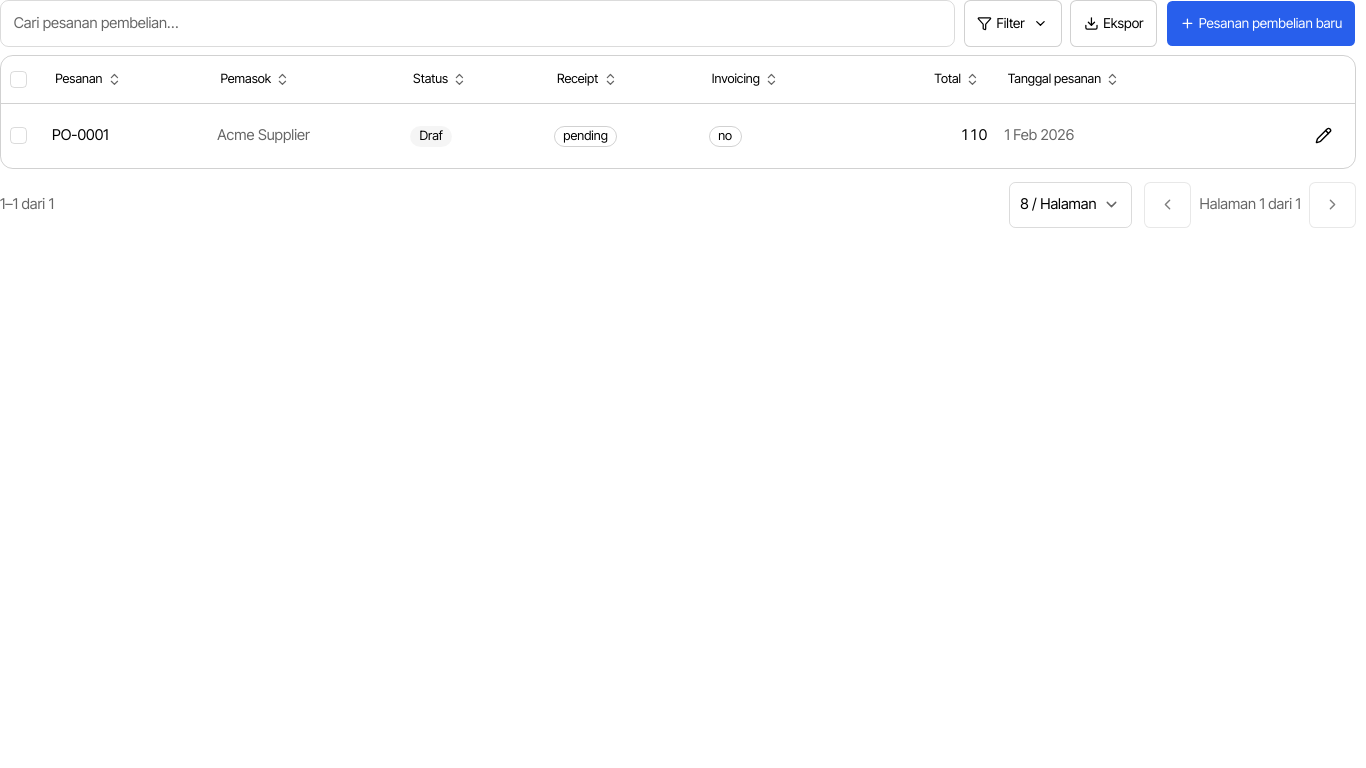
Test: PurchaseOrdersSection › opens the create dialog from the add button
Expected: the link "PO-0001" is shown, left=52, top=126, right=108, bottom=144
Click the button "Pesanan pembelian baru" at (1261, 23), box left=1166, top=0, right=1356, bottom=47
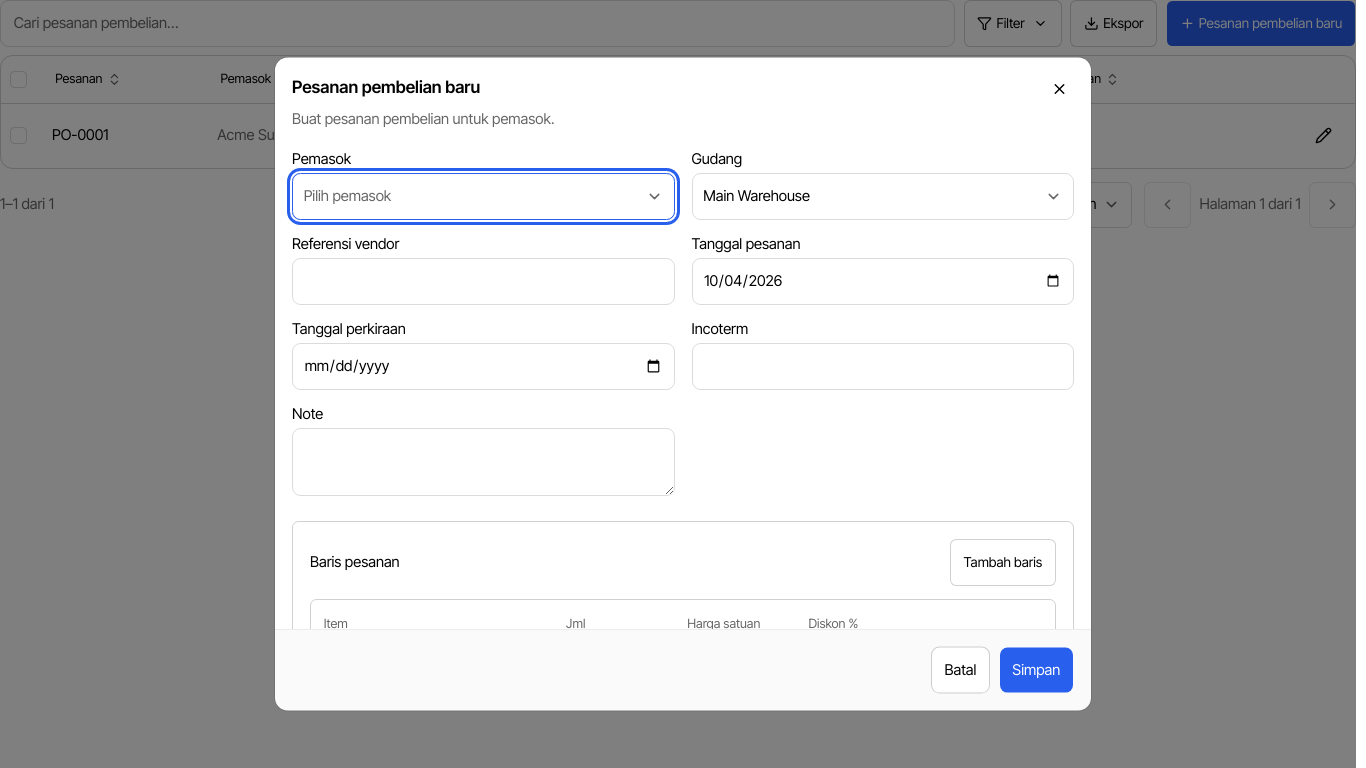
Expected: the dialog is shown, left=275, top=58, right=1091, bottom=710
Expected: the heading "Pesanan pembelian baru" is shown, left=292, top=75, right=480, bottom=100
